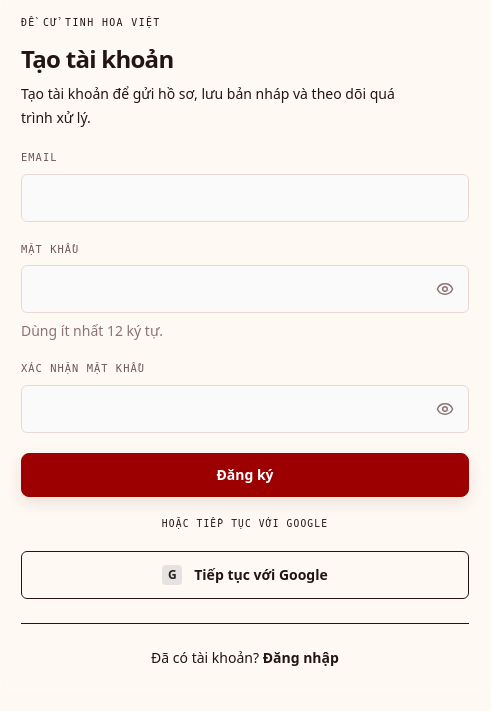
Scenario: RegisterForm › rejects mismatched passwords without a network request
Type "owner@cnsgroup.vn" into the field labelled "Email".
click(245, 198); type("owner@cnsgroup.vn")  # box [21,174,469,222]
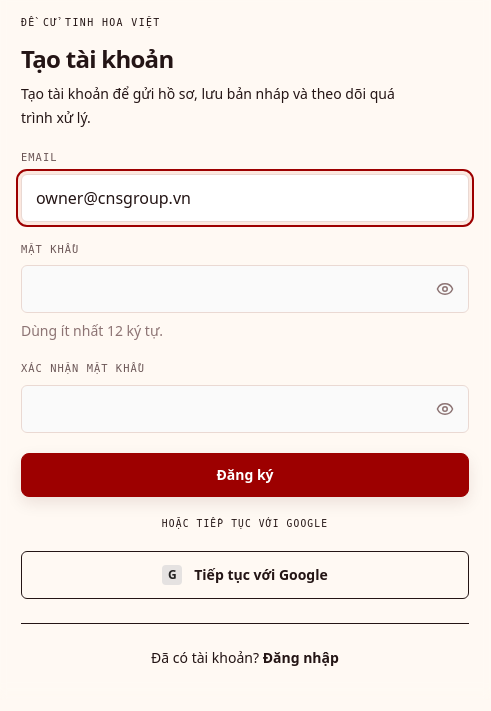
Type "correct horse battery staple" into the password field labelled "Mật khẩu".
click(245, 289); type("correct horse battery staple")  # box [21,265,469,313]
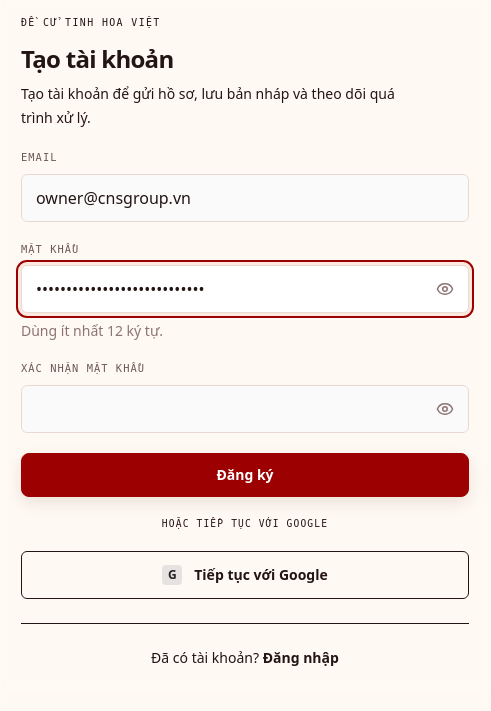
Type "different horse battery value" into the password field labelled "Xác nhận mật khẩu".
click(245, 409); type("different horse battery value")  # box [21,385,469,433]
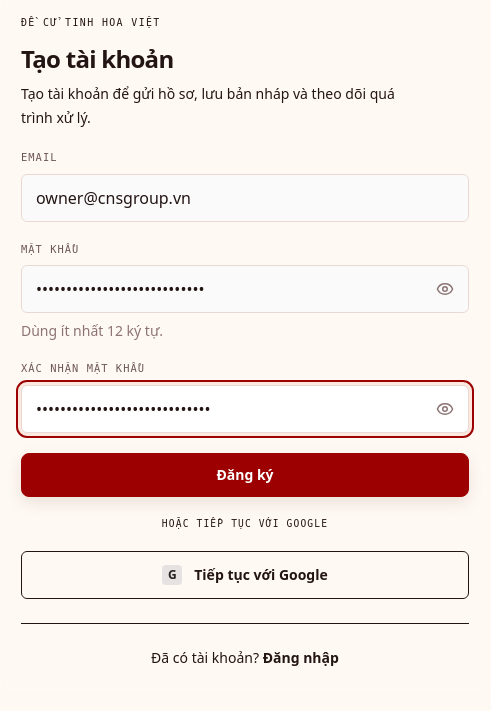
Click the button "Đăng ký".
click(245, 475)  # box [21,453,469,497]
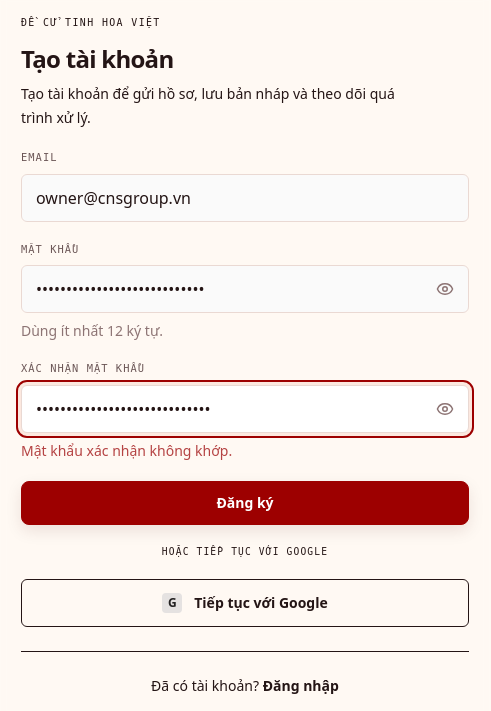
expect the text "Mật khẩu xác nhận không khớp." is shown: met, box [21,441,232,460]
